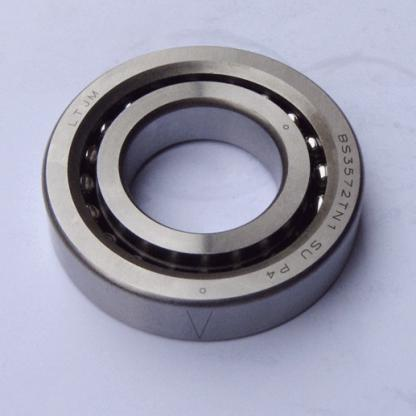FOD: (37, 40, 370, 345)
